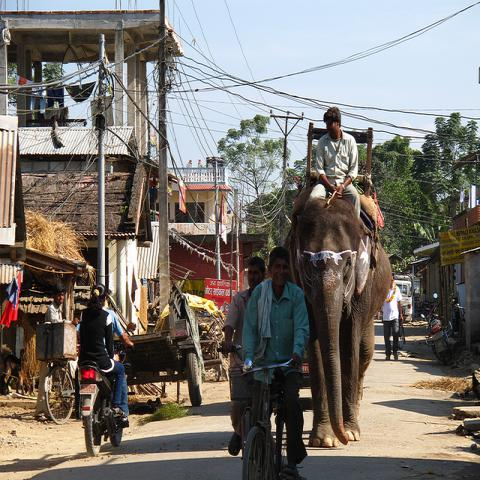car: (395, 280, 413, 321)
motorcycle: (78, 361, 125, 459), (421, 292, 455, 366)
